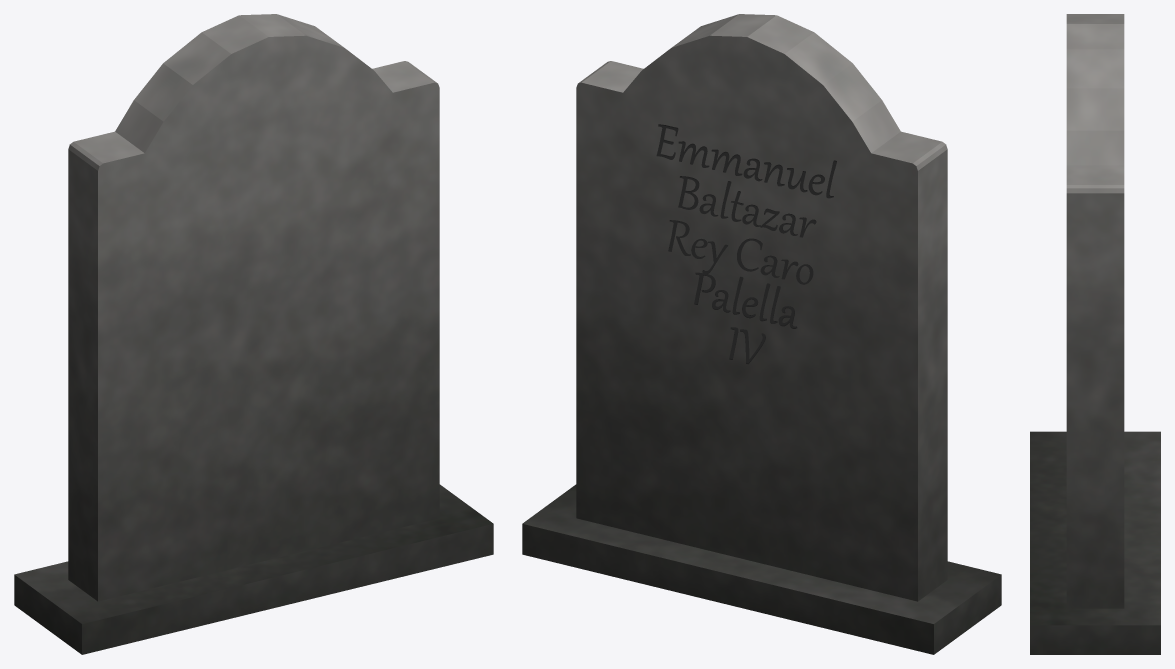
The model's file is tombston_model_03.fbx.
The picture shows the model from 3 angles, left to right: view 1: azimuth 30°, elevation 25°; view 2: azimuth 150°, elevation 25°; view 3: azimuth 270°, elevation 25°; orthographic projection. The views are drawn at different scales.
Visible parts, largest first — view 1: Cube.002; view 2: Cube.002, Plano.002; view 3: Cube.002.
Part boxes in pixels (bbox=[...]): Cube.002: bbox=[14, 14, 493, 654]; Cube.002: bbox=[522, 14, 1001, 654]; Plano.002: bbox=[656, 124, 836, 364]; Cube.002: bbox=[1030, 14, 1160, 654].
Size of the model in its own units: 0.7 by 0.9 by 0.2.
